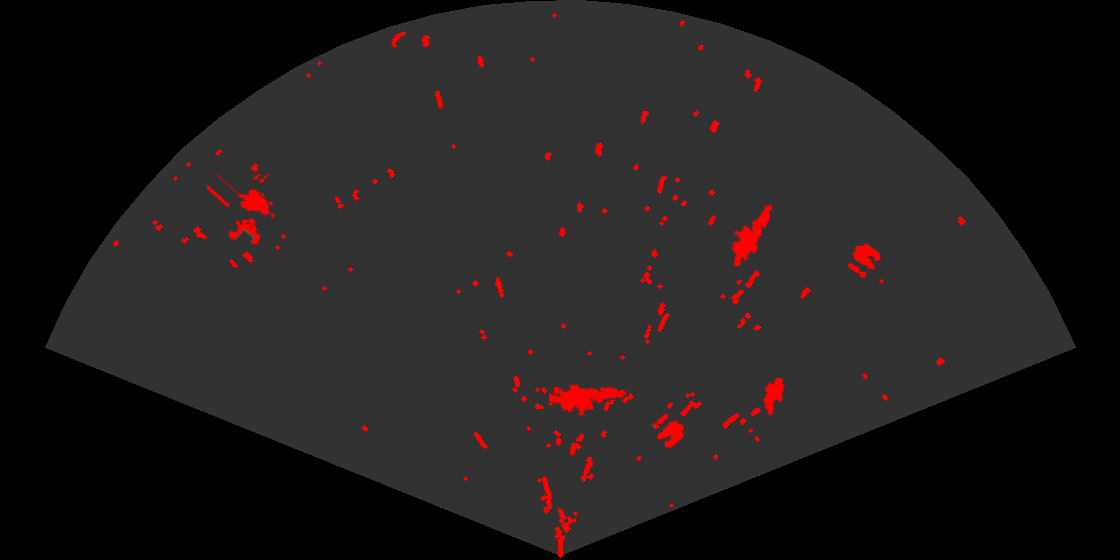AUV: (761, 376, 786, 418)
ball: (846, 242, 882, 279), (651, 412, 685, 449)
cage: (207, 174, 277, 247)
frogman: (730, 203, 774, 266), (549, 383, 628, 418)
